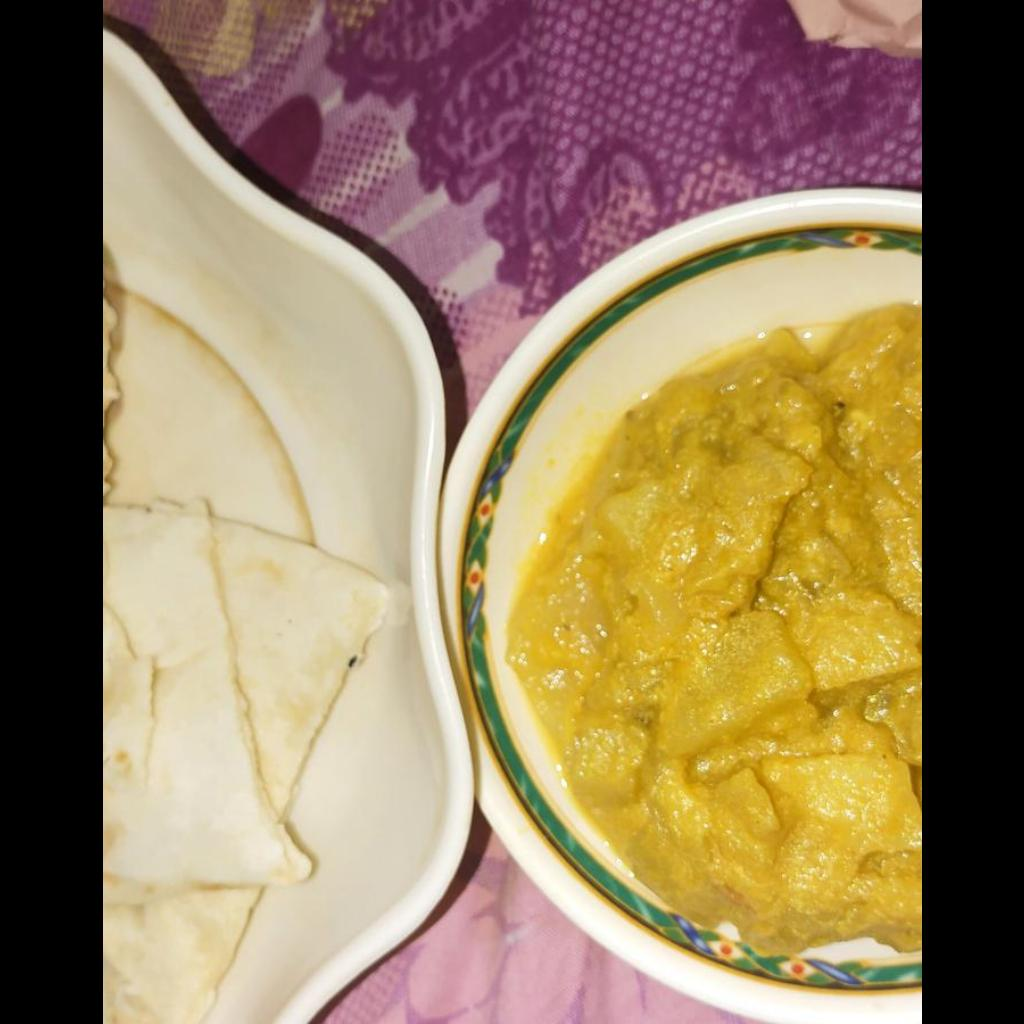ruti: (102, 254, 385, 1023)
vegetable: (506, 305, 920, 961)
